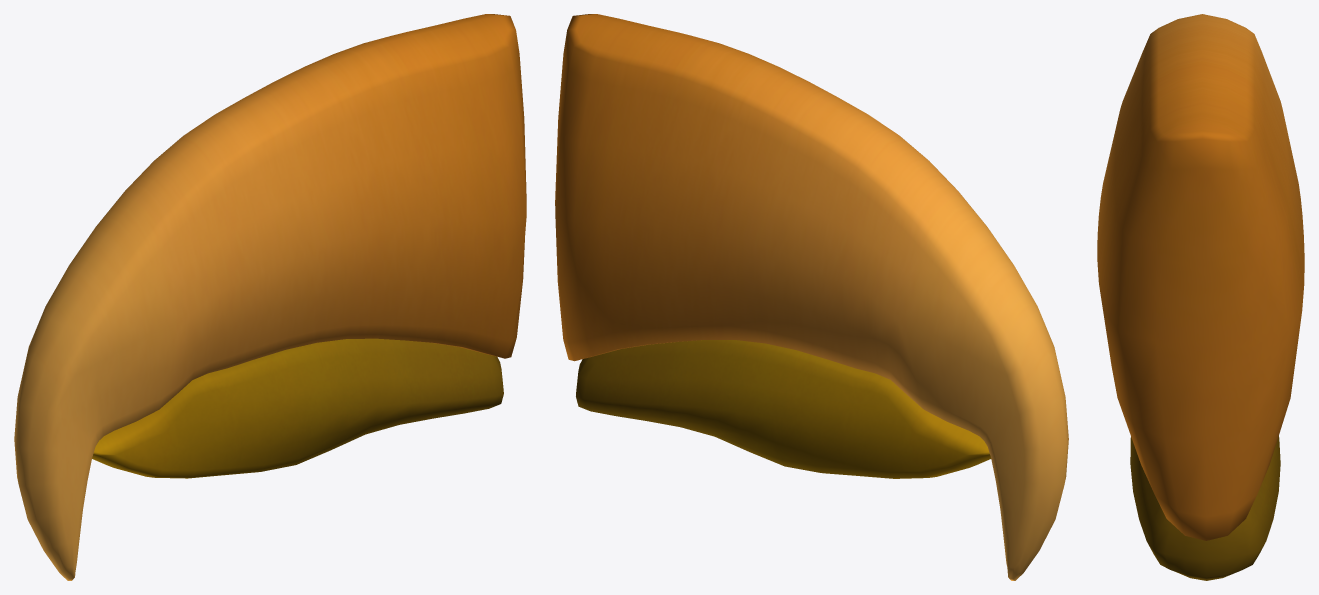
File: Ingredient_Beak.fbx
3 renders of one model, left to right at view 1: azimuth 30°, elevation 25°; view 2: azimuth 150°, elevation 25°; view 3: azimuth 270°, elevation 25°, orthographic. The views are drawn at different scales.
Parts seen in each view (by area): view 1: Ingredient_Beak; view 2: Ingredient_Beak; view 3: Ingredient_Beak.
Part boxes in pixels (bbox=[...]): Ingredient_Beak: bbox=[14, 14, 526, 580]; Ingredient_Beak: bbox=[555, 14, 1068, 580]; Ingredient_Beak: bbox=[1097, 14, 1304, 580].
Size of the model in its own units: 102 by 90.74 by 30.84.
Materials: 1 (1 with a texture image).
